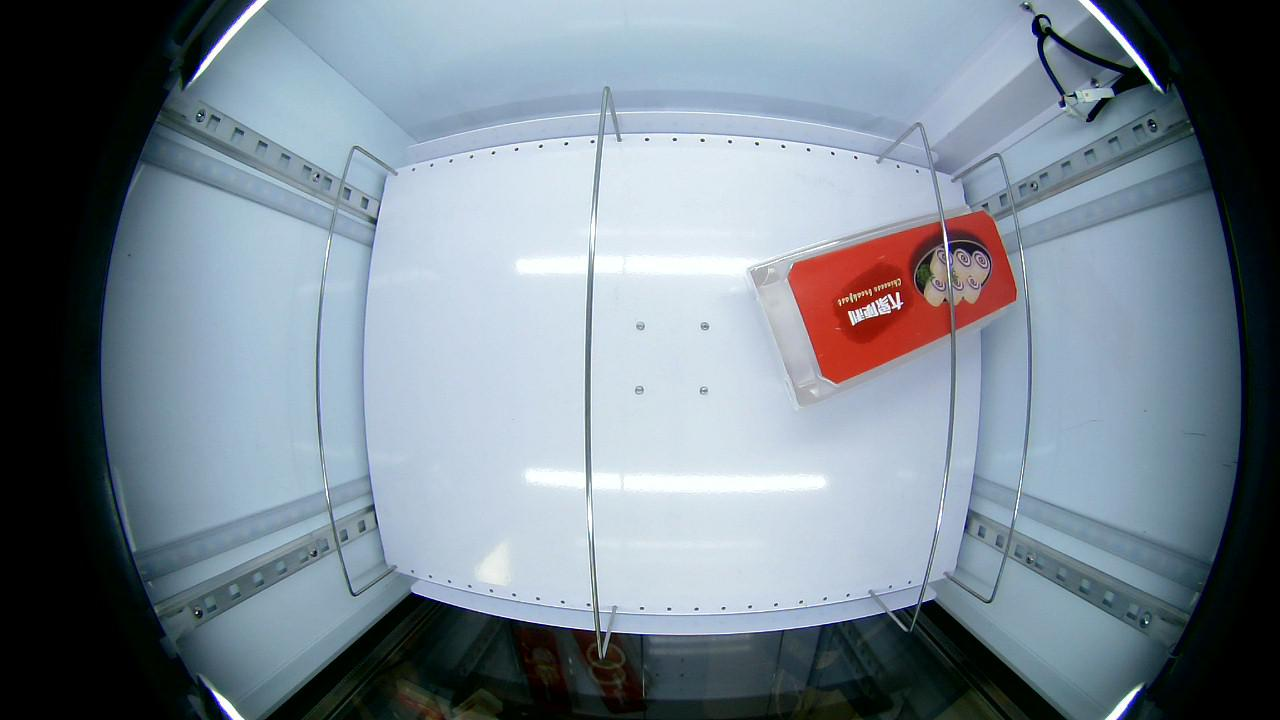goods: (912, 229, 996, 309)
